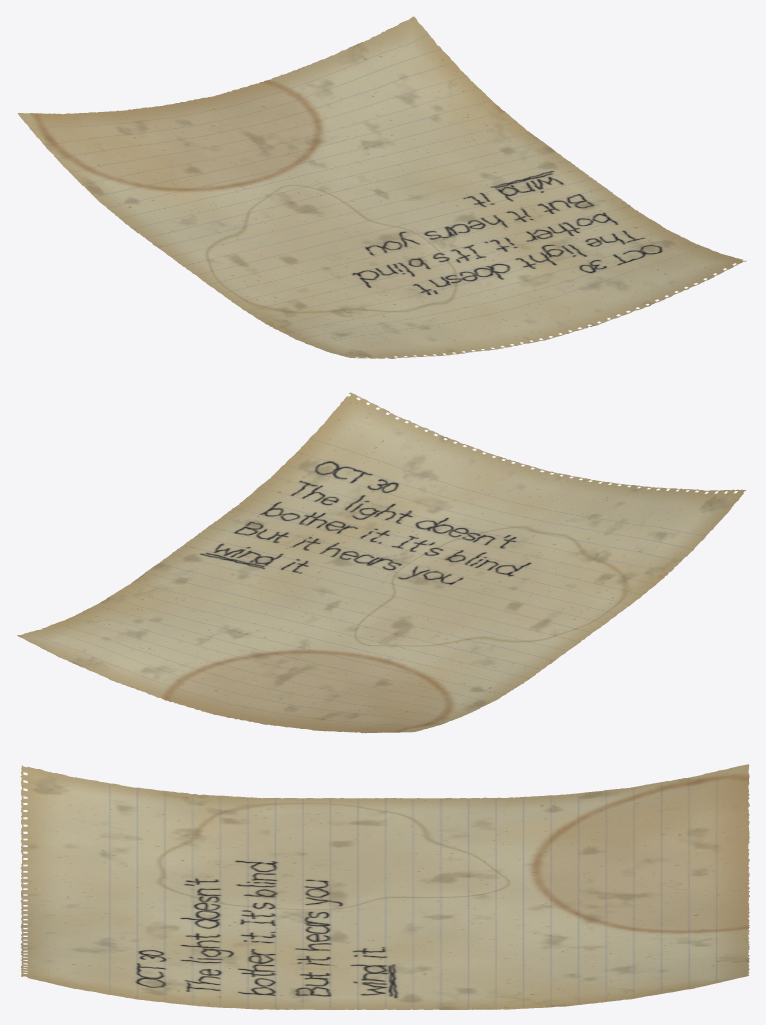
File: note_light.glb
3 renders of one model, top to bottom at view 1: azimuth 30°, elevation 25°; view 2: azimuth 150°, elevation 25°; view 3: azimuth 270°, elevation 25°, orthographic. The views are drawn at different scales.
Visible parts, largest first — view 1: note_light; view 2: note_light; view 3: note_light.
Boxes of the visible parts, bbox=[...] form: note_light: bbox=[18, 16, 746, 358]; note_light: bbox=[17, 392, 745, 733]; note_light: bbox=[20, 764, 749, 1009].
Size of the model in its own units: 0.13 by 0.01 by 0.19.
Materials: 1 (1 with a texture image).
